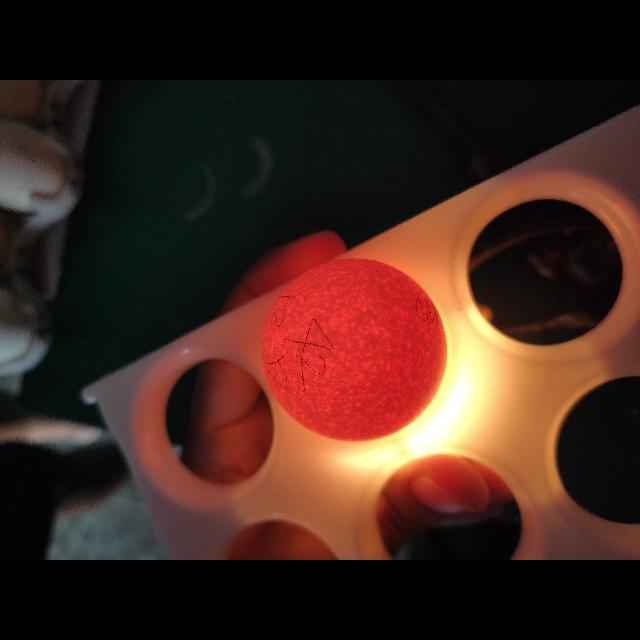A - Good: (260, 250, 446, 442)
